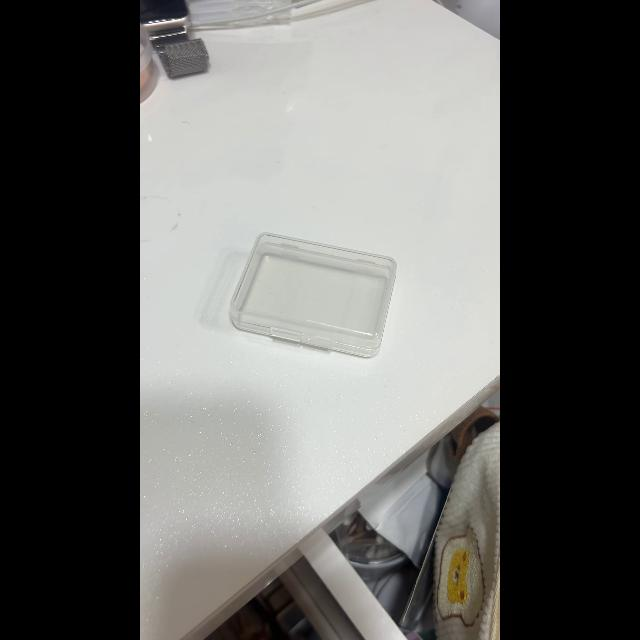clean: (242, 245, 392, 358)
